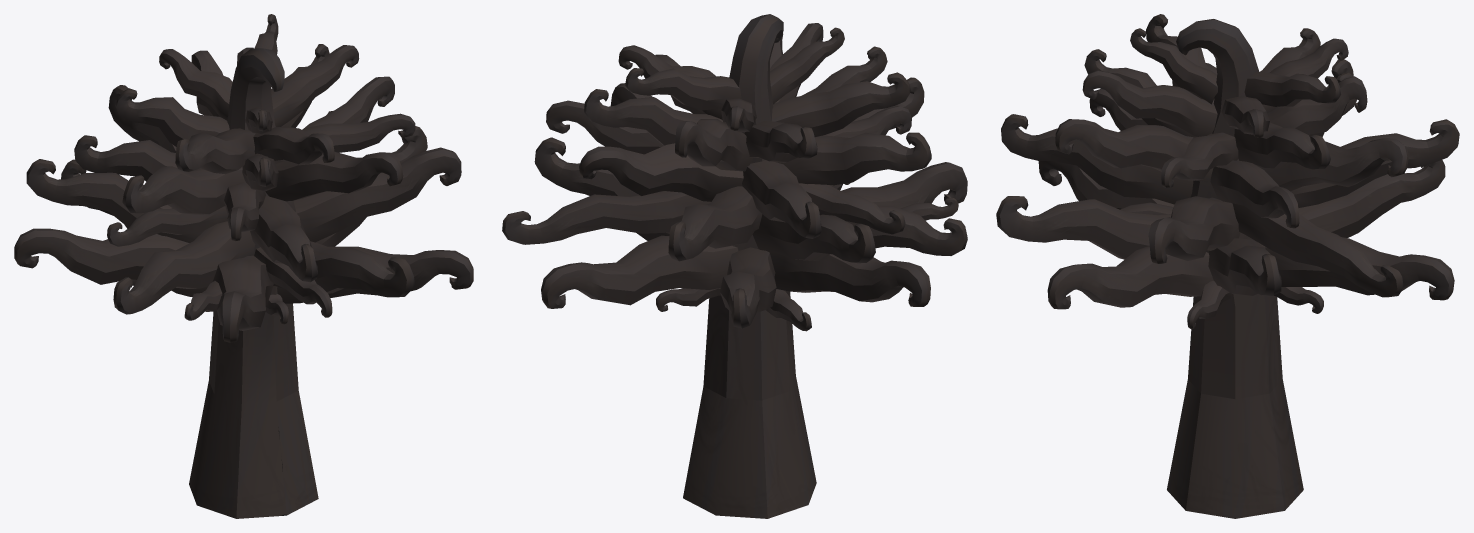
Rendered from Läski_träd.fbx.
The picture shows the model from 3 angles, left to right: view 1: azimuth 30°, elevation 25°; view 2: azimuth 150°, elevation 25°; view 3: azimuth 270°, elevation 25°; orthographic projection. The views are drawn at different scales.
Visible parts, largest first — view 1: pCube1, pCube38, pCube15, pCube9, pCube41, pCube48, pCube16, pCube14, pCube8, pCube37, pCube55, pCube60 (+17 smaller); view 2: pCube1, pCube11, pCube40, pCube9, pCube42, pCube48, pCube61, pCube39, pCube14, pCube47, pCube10, pCube56 (+18 smaller); view 3: pCube1, pCube13, pCube16, pCube40, pCube37, pCube10, pCube41, pCube38, pCube57, pCube11, pCube42, pCube45 (+16 smaller).
Part boxes in pixels (x1,y1,x2,y2): pCube1: (189,48,318,518); pCube38: (293,147,461,242); pCube15: (113,221,255,314); pCube9: (14,228,207,293); pCube41: (265,151,403,201); pCube48: (122,166,244,214); pCube16: (273,241,414,297); pCube14: (26,159,204,242); pCube8: (212,255,273,342); pCube37: (250,196,317,282); pCube55: (115,88,229,146); pCube60: (271,45,359,126); pCube1: (683,14,816,518); pCube11: (541,235,738,308); pCube40: (502,191,711,244); pCube9: (767,251,930,306); pCube42: (579,143,743,201); pCube48: (776,132,931,185); pCube61: (772,72,910,136); pCube39: (668,186,762,261); pCube14: (752,214,875,263); pCube47: (742,160,821,238); pCube10: (720,247,776,328); pCube56: (584,89,722,145); pCube1: (1167,19,1303,518); pCube13: (1047,246,1213,309); pCube16: (996,196,1171,259); pCube40: (1232,203,1403,297); pCube37: (1001,114,1193,204); pCube10: (1298,160,1445,237); pCube41: (1055,119,1213,182); pCube38: (1148,196,1240,263); pCube57: (1082,70,1217,136); pCube11: (1257,237,1454,300); pCube42: (1248,138,1408,191); pCube45: (1210,160,1299,228).
Bounding box in the file's own units: 3.89 × 4.24 × 3.79.
1 material, 1 textured.
